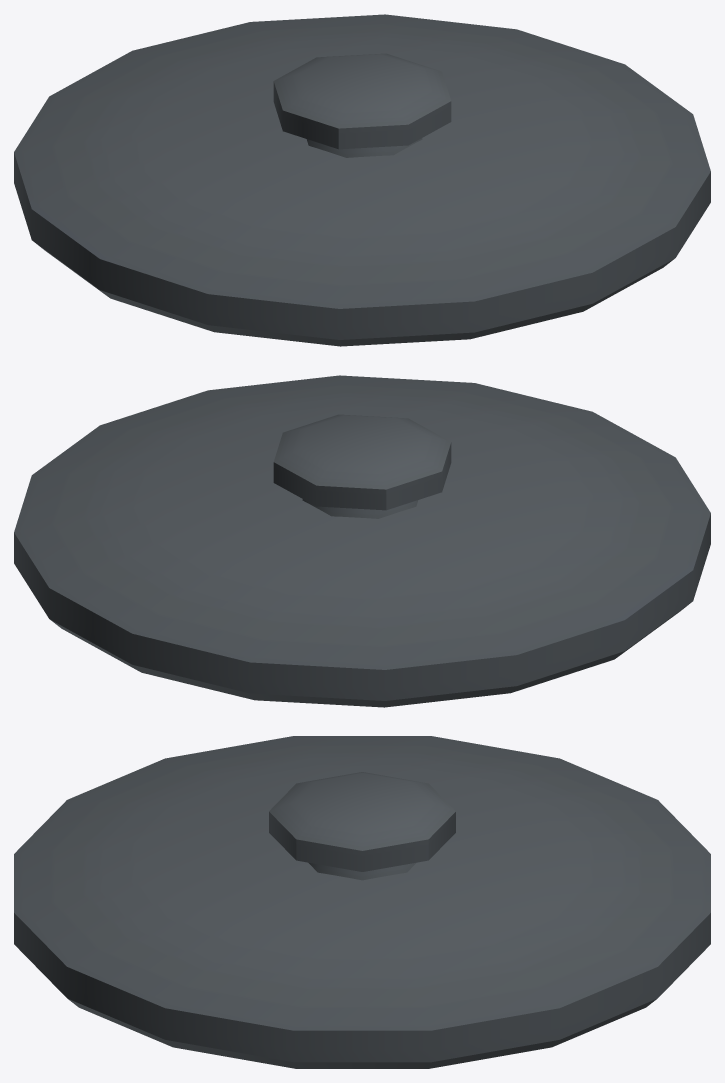
The model's file is lid-b.glb.
3 renders of one model, top to bottom at view 1: azimuth 30°, elevation 25°; view 2: azimuth 150°, elevation 25°; view 3: azimuth 270°, elevation 25°, orthographic.
Parts seen in each view (by area): view 1: lid_B; view 2: lid_B; view 3: lid_B.
Boxes of the visible parts, box(x1,y1,x2,y2) form: lid_B: box(14, 14, 710, 346); lid_B: box(14, 375, 710, 707); lid_B: box(14, 736, 710, 1068).
Bounding box in the file's own units: 1 × 0.2003 × 1.
1 material, 1 textured.
